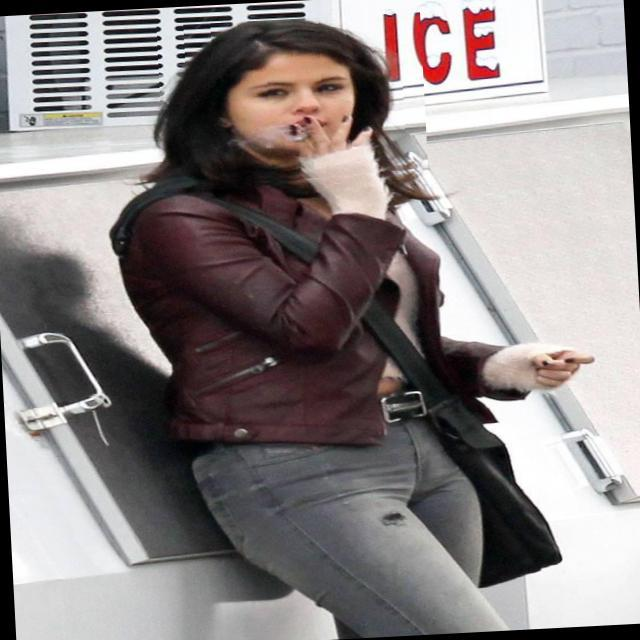cigarette: (284, 130, 322, 146)
